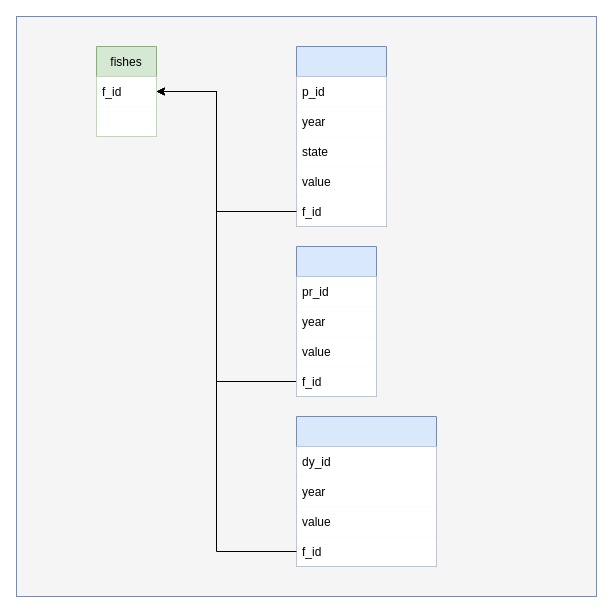
Some shapes in this 613 by 613 pixel diagram are drawn without their labels. The box of each missing label's shape, as (x1, y1, x2, y2) in pixels:
disembarkation_year: (296, 416, 436, 566)
name: (96, 106, 156, 136)
prices: (296, 246, 376, 396)
production: (296, 46, 386, 226)
